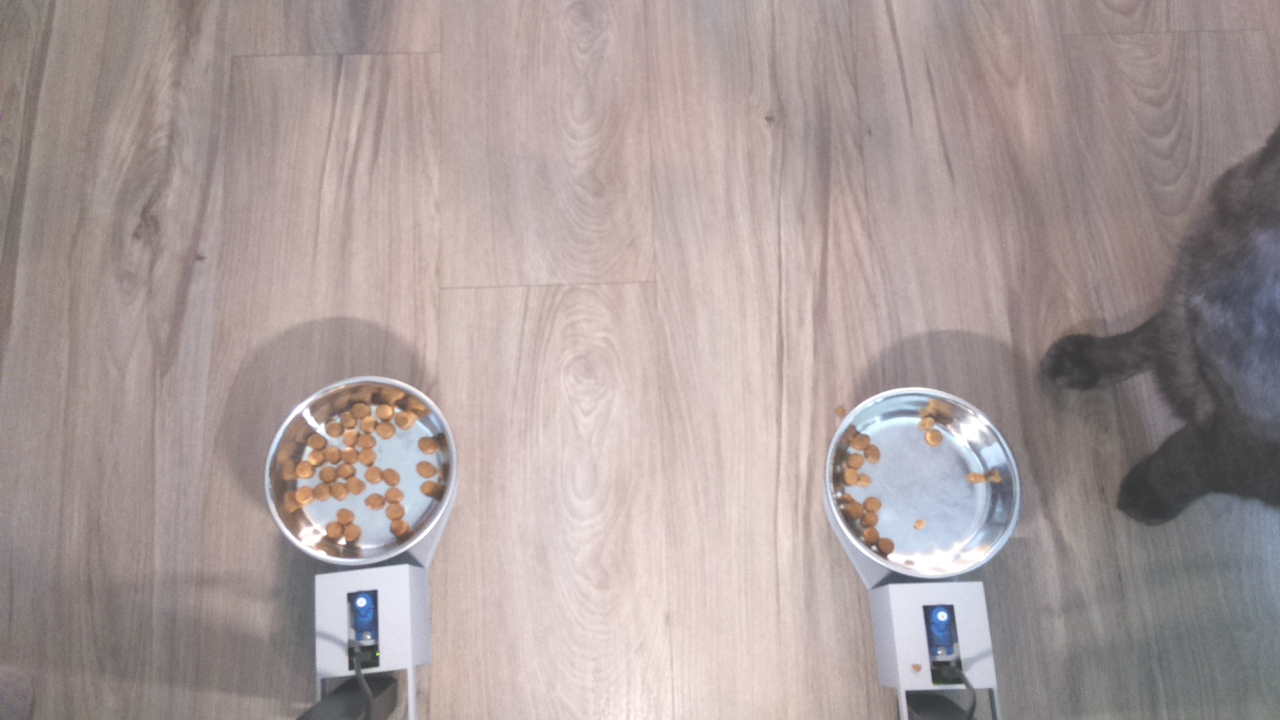open_bowl: (823, 384, 1028, 586), (261, 376, 461, 571)
